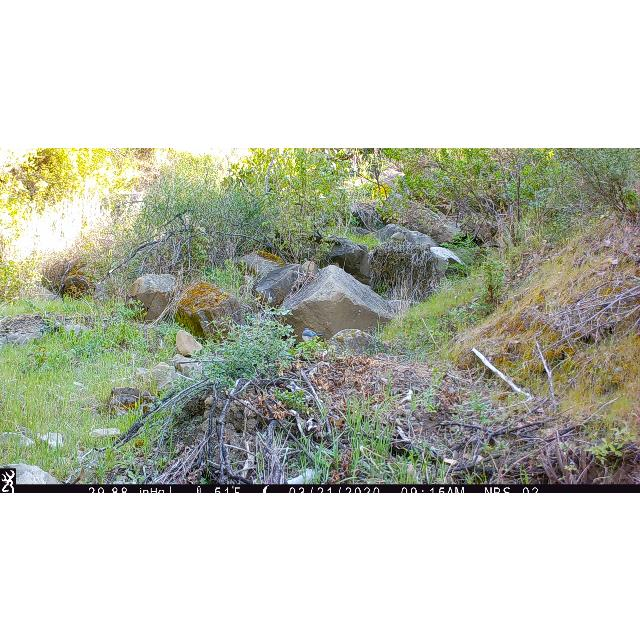animals: (300, 323, 328, 347)
